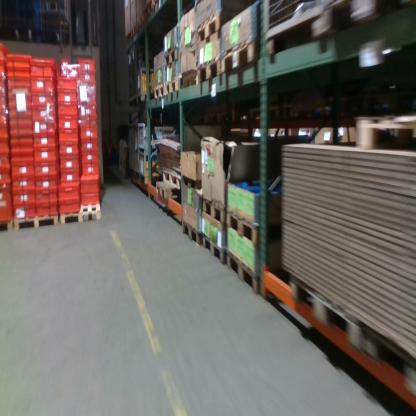pallet: (288, 274, 358, 351), (364, 325, 415, 393), (224, 202, 289, 247), (357, 110, 415, 154), (227, 247, 276, 293), (222, 37, 261, 83), (58, 190, 102, 225), (197, 11, 246, 41), (201, 194, 231, 224), (15, 212, 60, 232), (202, 233, 226, 265), (197, 58, 221, 89), (182, 217, 205, 249), (154, 180, 185, 199), (159, 168, 185, 187), (181, 170, 204, 191), (162, 45, 180, 68), (182, 69, 197, 91), (166, 77, 180, 96), (144, 3, 153, 26), (153, 83, 166, 98), (1, 219, 14, 233), (152, 0, 166, 11), (138, 14, 145, 34), (131, 25, 137, 40)
small_load_carrier: (29, 57, 56, 75), (30, 77, 55, 96), (0, 186, 12, 225), (31, 115, 58, 132), (12, 203, 36, 221), (59, 181, 79, 202), (57, 168, 79, 187), (34, 172, 59, 188), (34, 144, 59, 160), (80, 175, 101, 194), (34, 187, 58, 203), (60, 197, 81, 215), (13, 189, 35, 206), (10, 175, 35, 189), (10, 160, 33, 175), (77, 164, 100, 179), (31, 132, 59, 144), (31, 93, 56, 106), (61, 154, 80, 171), (56, 103, 79, 117), (34, 160, 59, 172), (56, 78, 79, 91), (80, 194, 101, 208), (8, 55, 30, 68), (59, 117, 79, 131), (37, 204, 60, 216), (78, 117, 98, 130), (56, 92, 79, 103), (9, 76, 30, 88), (80, 140, 98, 154), (31, 106, 58, 115), (59, 142, 79, 154), (8, 96, 31, 106), (11, 150, 33, 160), (11, 140, 32, 150), (79, 73, 96, 85), (78, 130, 98, 140), (11, 121, 29, 132), (80, 106, 98, 117), (78, 61, 97, 71), (11, 131, 32, 140), (79, 95, 96, 106), (0, 168, 10, 186), (80, 154, 100, 163), (8, 88, 30, 96), (12, 111, 29, 121), (9, 68, 30, 76), (1, 47, 10, 64), (79, 85, 96, 94), (0, 108, 8, 125), (2, 139, 9, 154), (1, 94, 8, 108), (0, 125, 9, 135), (2, 155, 10, 166), (1, 64, 6, 78), (2, 78, 6, 94)
stillage: (262, 1, 336, 58), (136, 120, 181, 153), (133, 42, 152, 104), (139, 151, 169, 185), (135, 68, 161, 104), (134, 122, 143, 181), (127, 127, 133, 177), (128, 50, 133, 103)
